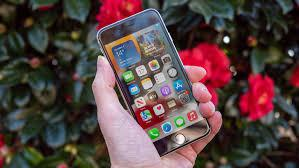Hand: (75, 55, 219, 168)
Smartphone: (100, 15, 204, 155)
